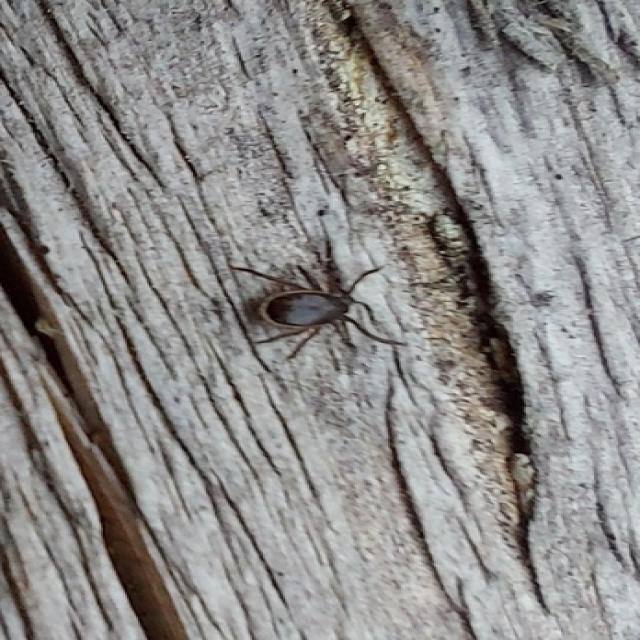Ixodes Ricinus-M: (254, 256, 405, 364)
